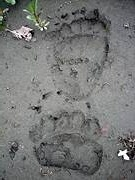rat: (79, 53, 129, 131), (8, 57, 57, 134)
